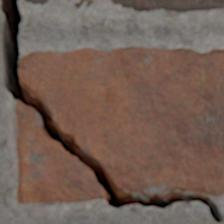broken_brick: (19, 48, 223, 197), (17, 102, 107, 203), (111, 0, 223, 13), (75, 0, 94, 9), (25, 0, 50, 6)
crack: (0, 0, 223, 223)
